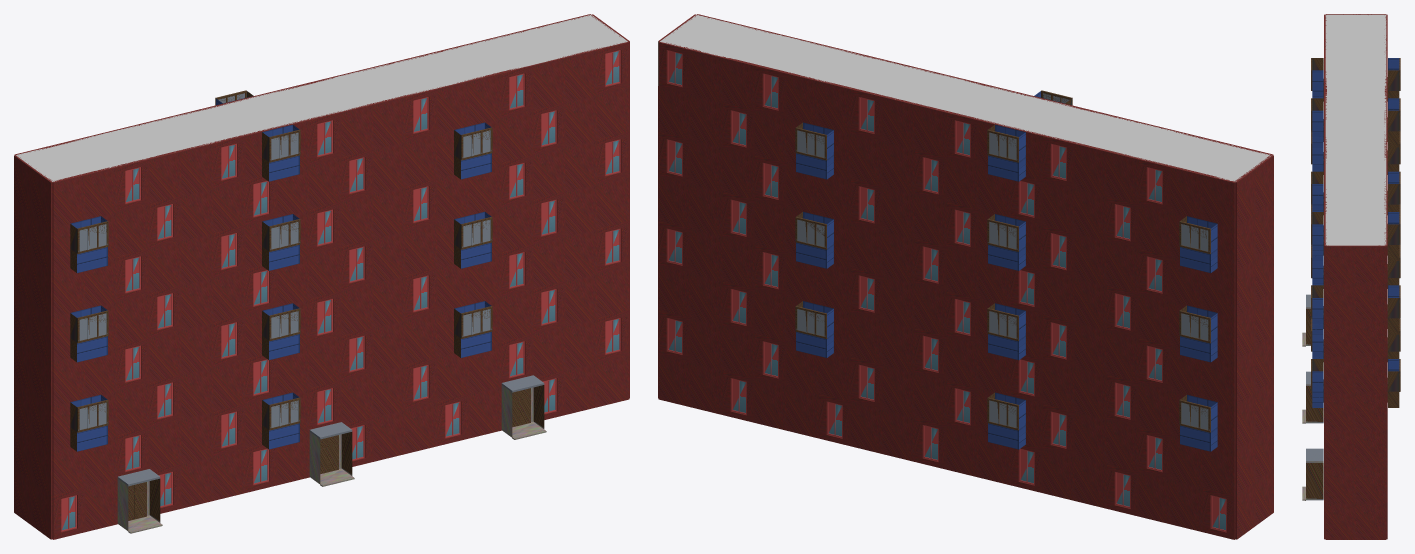
File: house.obj
3 renders of one model, left to right at view 1: azimuth 30°, elevation 25°; view 2: azimuth 150°, elevation 25°; view 3: azimuth 270°, elevation 25°, orthographic. The views are drawn at different scales.
Visible parts, largest first — view 1: geometry_0, geometry_189, geometry_188, geometry_187, geometry_190, geometry_192, geometry_195, geometry_197, geometry_199, geometry_191, geometry_193, geometry_194 (+146 smaller); view 2: geometry_0, geometry_386, geometry_388, geometry_391, geometry_393, geometry_395, geometry_387, geometry_389, geometry_390, geometry_394, geometry_392, geometry_362 (+149 smaller); view 3: geometry_0, geometry_420, geometry_421, geometry_426, geometry_427, geometry_414, geometry_415, geometry_422, geometry_423, geometry_412, geometry_413, geometry_416 (+26 smaller).
Part boxes in pixels (x1,y1,x2,y2): geometry_0: (16,14,627,181); geometry_189: (501,375,546,439); geometry_188: (309,422,354,486); geometry_187: (117,469,162,533); geometry_190: (262,392,300,449); geometry_192: (454,301,492,357); geometry_195: (454,211,492,268); geometry_197: (70,216,108,273); geometry_199: (262,124,300,181); geometry_191: (70,394,108,451); geometry_193: (262,303,300,360); geometry_194: (70,305,108,362); geometry_0: (660,14,1271,181); geometry_386: (987,392,1025,449); geometry_388: (795,301,833,357); geometry_391: (795,211,833,268); geometry_393: (1179,216,1217,273); geometry_395: (987,124,1025,181); geometry_387: (1179,394,1217,451); geometry_389: (987,303,1025,360); geometry_390: (1179,305,1217,362); geometry_394: (795,122,833,179); geometry_392: (987,214,1025,270); geometry_362: (1202,174,1235,227); geometry_0: (1325,14,1386,245); geometry_420: (1325,356,1355,393); geometry_421: (1356,356,1386,393); geometry_426: (1325,245,1355,282); geometry_427: (1356,245,1386,282); geometry_414: (1325,466,1355,503); geometry_415: (1356,466,1386,503); geometry_422: (1325,319,1355,356); geometry_423: (1356,319,1386,356); geometry_412: (1325,503,1355,539); geometry_413: (1356,503,1386,539); geometry_416: (1325,430,1355,466).
Bounding box in the file's own units: 54.3 × 32 × 9.72.
